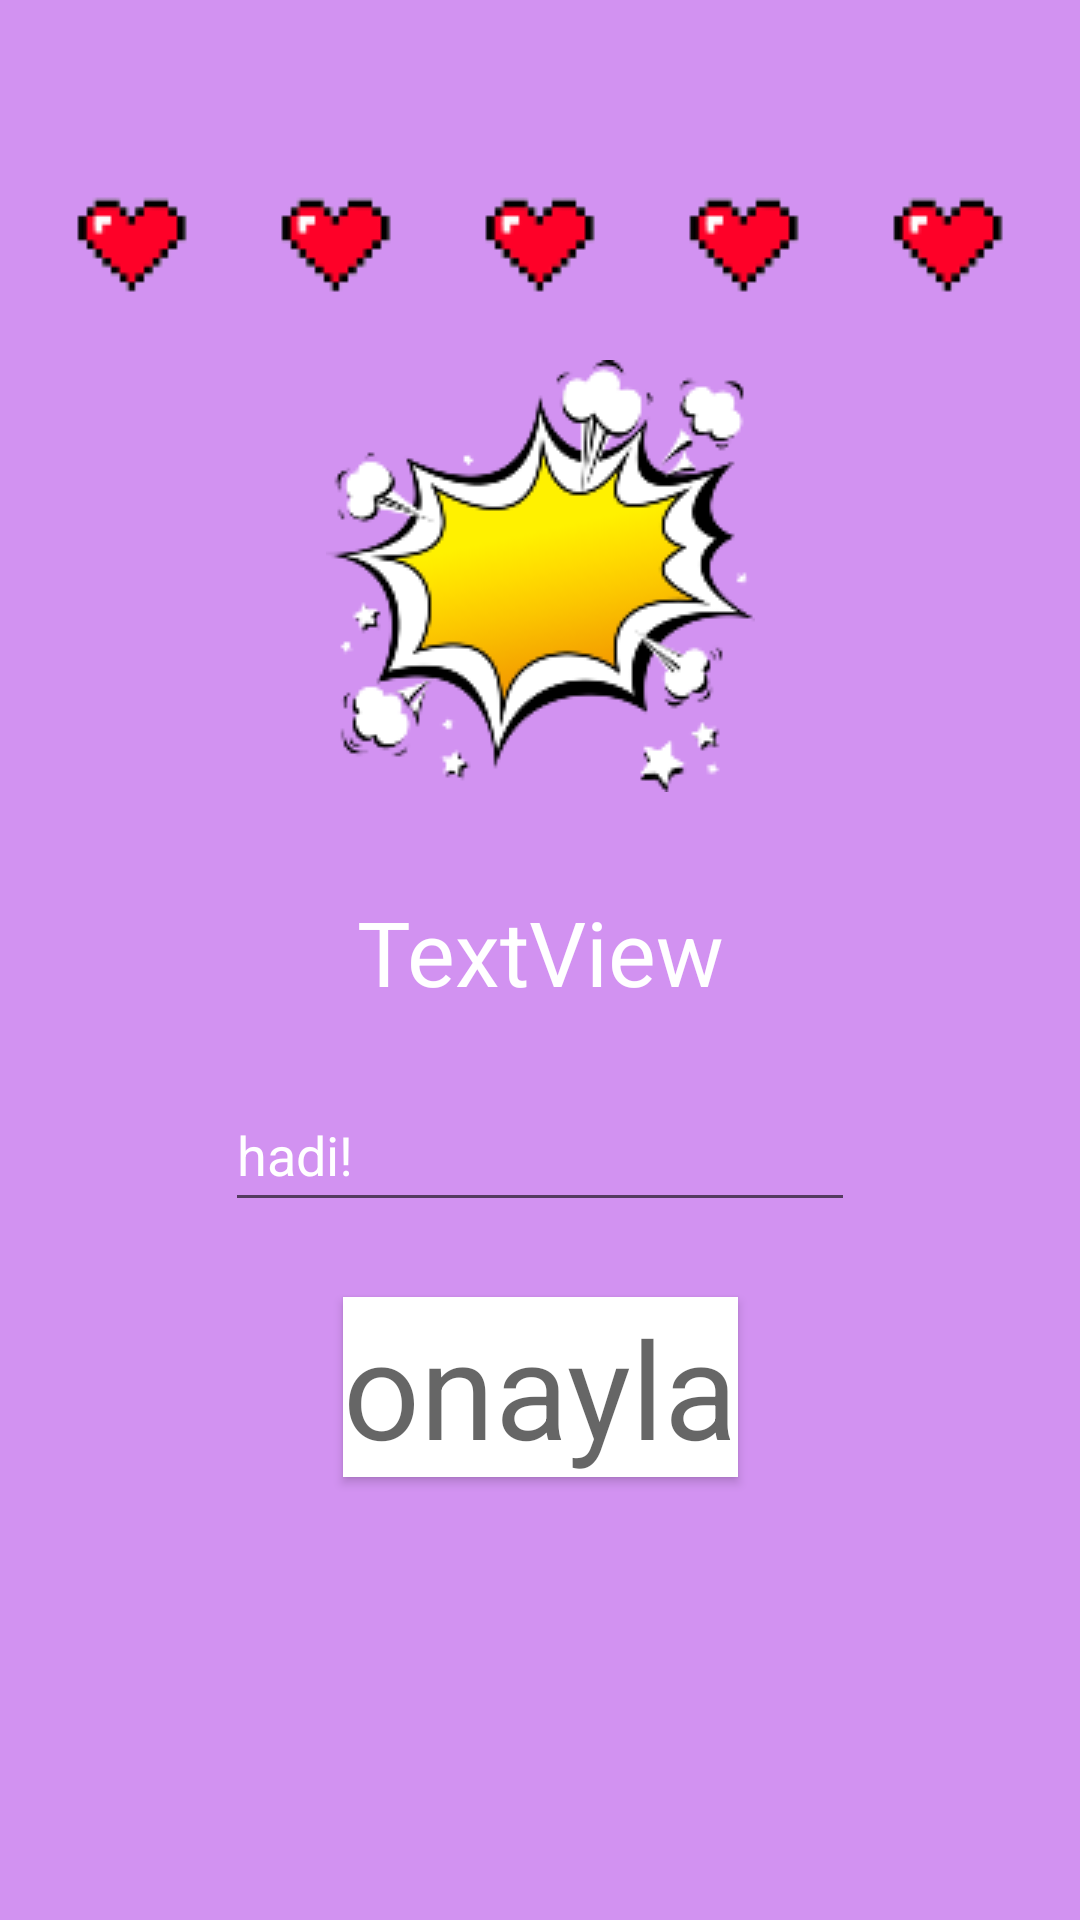

Where icons sit on this 1080 × 1920 app screen, as (x1, y1, x2, y2):
heart: (77, 198, 187, 292), (281, 198, 391, 292), (485, 198, 595, 292), (689, 198, 799, 292), (893, 198, 1003, 292)
